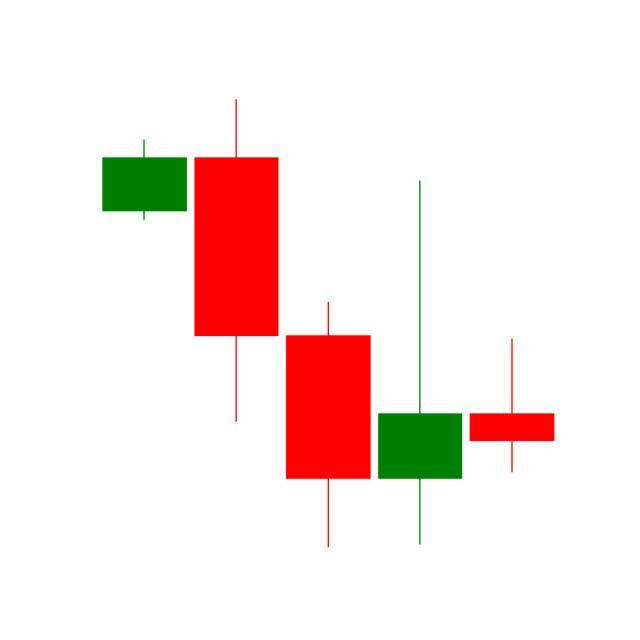Spinning Top: (374, 177, 468, 549)
